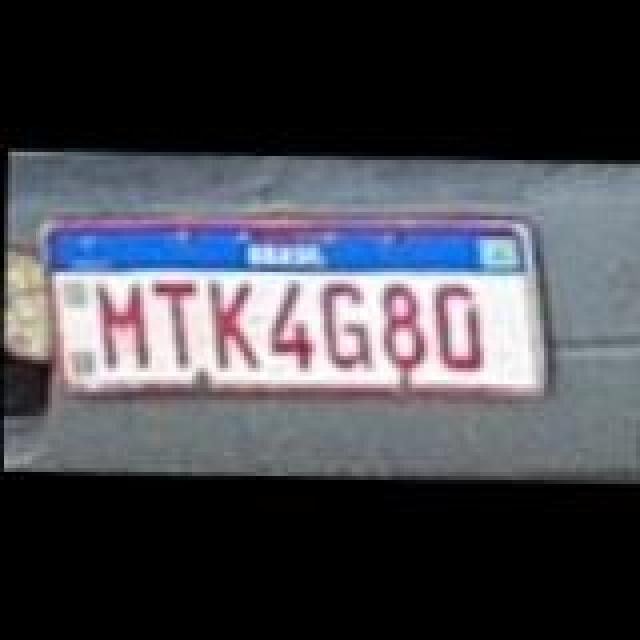4: (262, 280, 318, 372)
8: (376, 282, 428, 370)
D: (430, 282, 486, 370)
G: (318, 284, 374, 372)
K: (204, 280, 264, 372)
M: (92, 280, 152, 368)
T: (150, 280, 206, 368)
